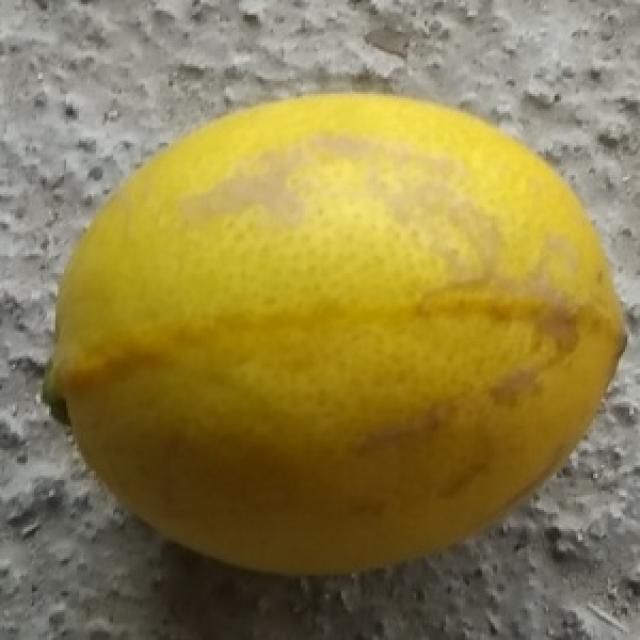overripe: (39, 82, 635, 581)
